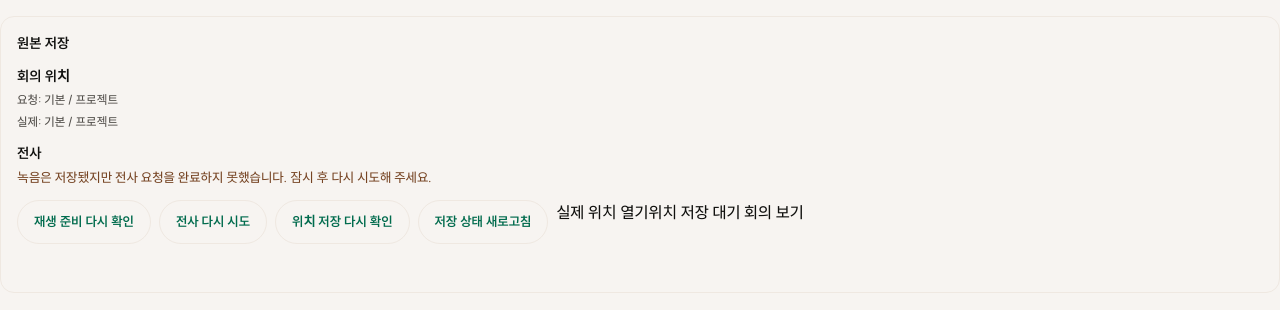
RecorderFinalizeResultView › keeps the retry action and shows only a static safe failure after refusal
This screenshot has width=1280, height=310.
Click the button "전사 다시 시도" at (213,222), box 159,200 -> 267,244
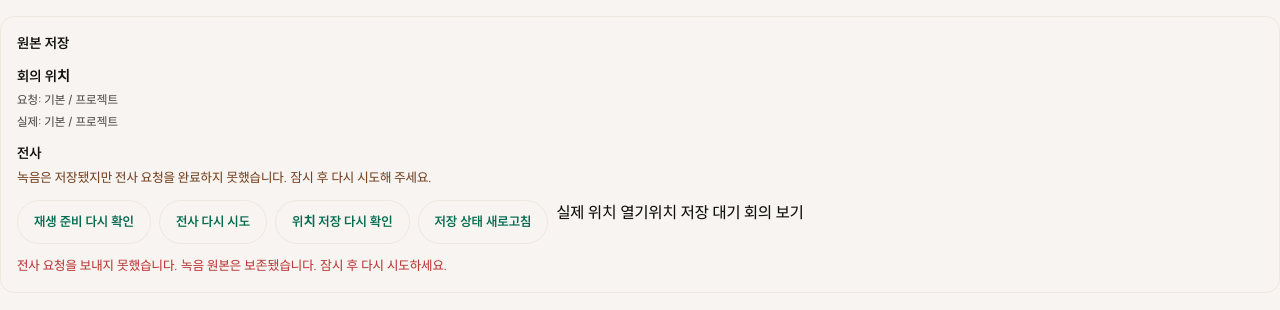
Check: the message named "전사 다시 시도 상태" reads "전사 요청을 보내지 못했습니다. 녹음 원본은 보존됐습니다. 잠시 후 다시 시도하세요.", box 17,256 -> 447,272
